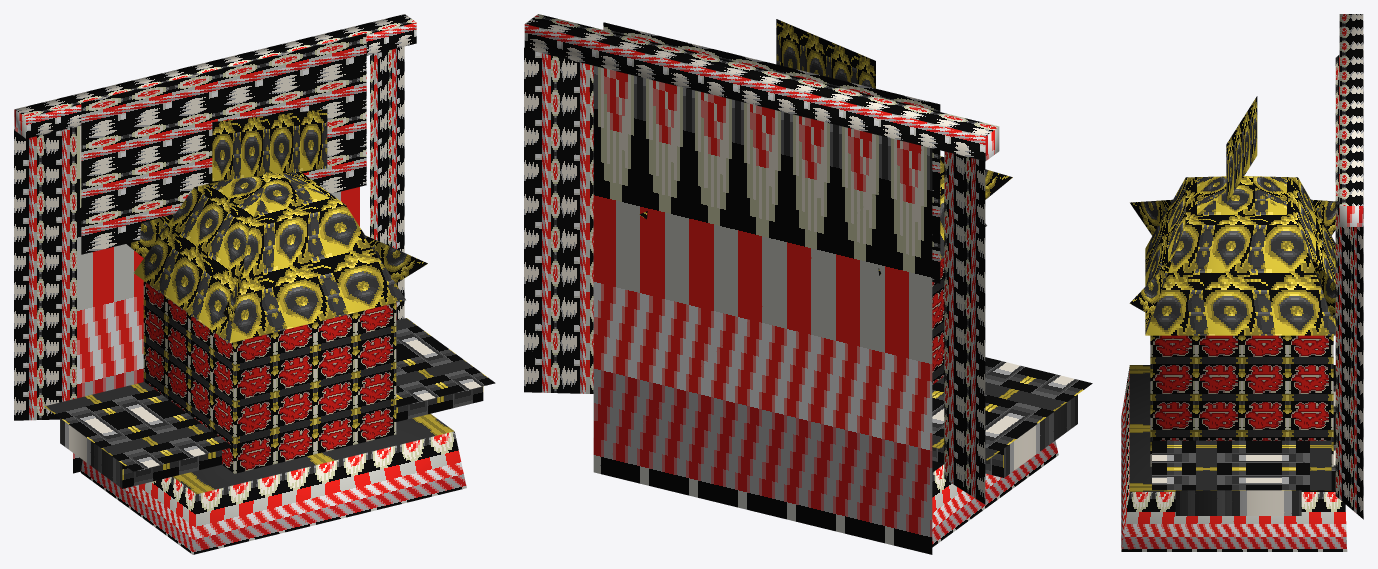
The picture shows the model from 3 angles, left to right: view 1: azimuth 30°, elevation 25°; view 2: azimuth 150°, elevation 25°; view 3: azimuth 270°, elevation 25°; orthographic projection. The views are drawn at different scales.
Parts seen in each view (by area): view 1: 3773kg_sh0_20; view 2: 3773kg_sh0_20; view 3: 3773kg_sh0_20.
Boxes of the visible parts, box(x1,y1,x2,y2) form: 3773kg_sh0_20: box(14, 14, 495, 554); 3773kg_sh0_20: box(524, 14, 1092, 554); 3773kg_sh0_20: box(1121, 14, 1363, 551).
Bounding box in the file's own units: 1.82 × 1.67 × 0.9697.
4 materials, 4 textured.
